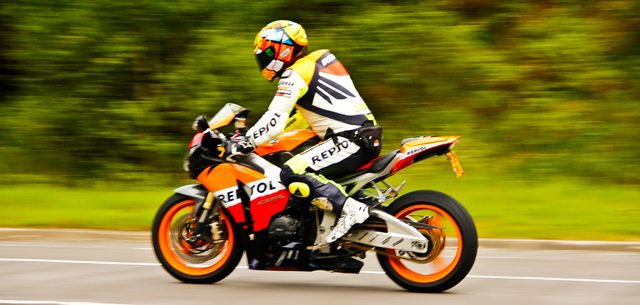helmet: (245, 15, 314, 74)
